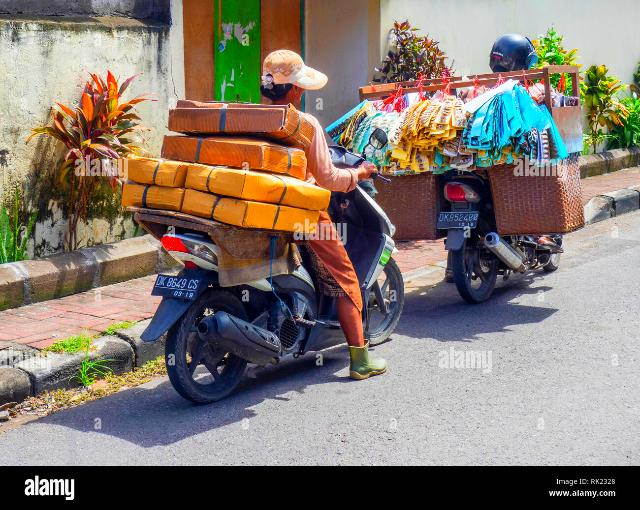helm: (493, 35, 542, 76)
motor: (127, 143, 409, 406), (423, 118, 591, 319)
non-helm: (262, 51, 322, 111)
